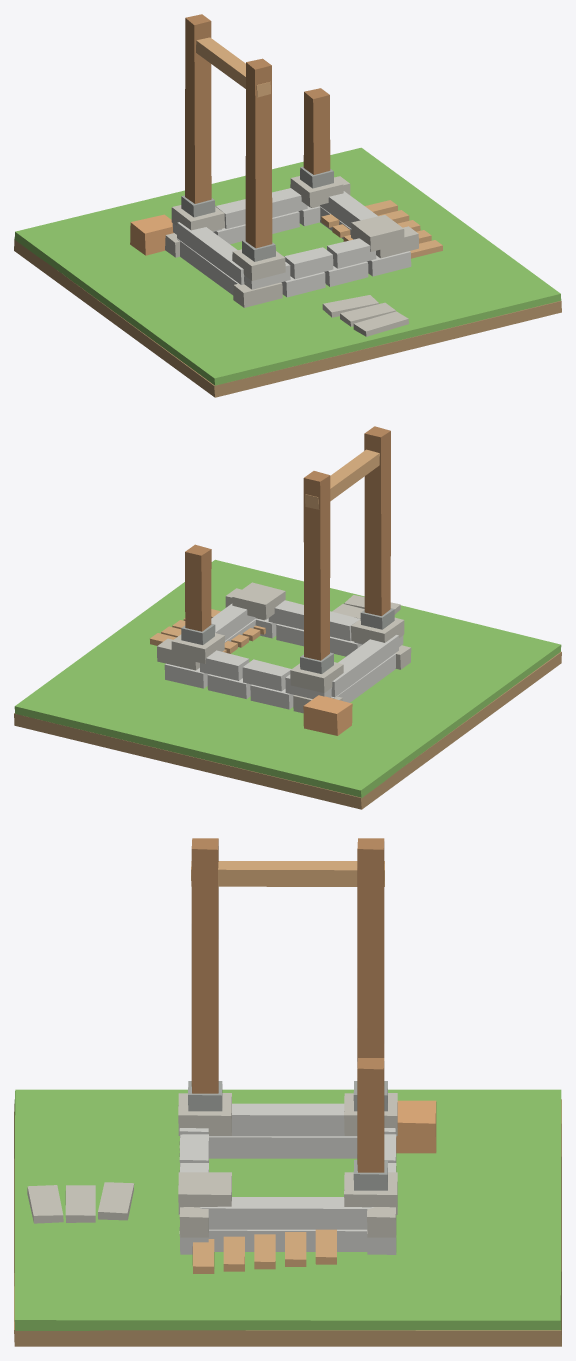
The model's file is tower_l03_construction_LOD2.glb.
3 views of the same model, one above another, from view 1: azimuth 30°, elevation 25°; view 2: azimuth 150°, elevation 25°; view 3: azimuth 270°, elevation 25° (orthographic). The views are drawn at different scales.
Visible parts, largest first — view 1: tower_l03_grass_tile_tower_l03_construction_LOD2_tmp, tower_l03_earth_tile_tower_l03_construction_LOD2_tmp, post_-0.61_-0.54_tower_l03_construction_LOD2_tmp, post_-0.61_0.54_tower_l03_construction_LOD2_tmp, post_0.61_0.54_tower_l03_construction_LOD2_tmp, stone_return_1_-0.72_tower_l03_construction_LOD2_tmp, temporary_crossbar_tower_l03_construction_LOD2_tmp, foot_0.61_-0.54_tower_l03_construction_LOD2_tmp, unmounted_instrument_case_tower_l03_construction_LOD2_tmp, stone_course_1_-1_1_tower_l03_construction_LOD2_tmp, stone_return_1_0.72_tower_l03_construction_LOD2_tmp, foot_-0.61_-0.54_tower_l03_construction_LOD2_tmp (+19 smaller); view 2: tower_l03_grass_tile_tower_l03_construction_LOD2_tmp, tower_l03_earth_tile_tower_l03_construction_LOD2_tmp, post_-0.61_0.54_tower_l03_construction_LOD2_tmp, post_-0.61_-0.54_tower_l03_construction_LOD2_tmp, post_0.61_0.54_tower_l03_construction_LOD2_tmp, stone_return_1_-0.72_tower_l03_construction_LOD2_tmp, unmounted_instrument_case_tower_l03_construction_LOD2_tmp, temporary_crossbar_tower_l03_construction_LOD2_tmp, foot_0.61_-0.54_tower_l03_construction_LOD2_tmp, stone_course_1_1_1_tower_l03_construction_LOD2_tmp, foot_-0.61_0.54_tower_l03_construction_LOD2_tmp, foot_0.61_0.54_tower_l03_construction_LOD2_tmp (+14 smaller); view 3: tower_l03_grass_tile_tower_l03_construction_LOD2_tmp, tower_l03_earth_tile_tower_l03_construction_LOD2_tmp, post_-0.61_-0.54_tower_l03_construction_LOD2_tmp, post_-0.61_0.54_tower_l03_construction_LOD2_tmp, stone_return_1_0.72_tower_l03_construction_LOD2_tmp, stone_return_1_-0.72_tower_l03_construction_LOD2_tmp, temporary_crossbar_tower_l03_construction_LOD2_tmp, stone_return_0_-0.72_tower_l03_construction_LOD2_tmp, post_0.61_0.54_tower_l03_construction_LOD2_tmp, unmounted_instrument_case_tower_l03_construction_LOD2_tmp, stone_return_0_0.72_tower_l03_construction_LOD2_tmp, foot_0.61_-0.54_tower_l03_construction_LOD2_tmp (+16 smaller).
Boxes of the visible parts, left/top/right/bottom form: tower_l03_grass_tile_tower_l03_construction_LOD2_tmp: left=14, top=147, right=561, bottom=385; tower_l03_earth_tile_tower_l03_construction_LOD2_tmp: left=14, top=239, right=561, bottom=397; post_-0.61_-0.54_tower_l03_construction_LOD2_tmp: left=245, top=58, right=272, bottom=248; post_-0.61_0.54_tower_l03_construction_LOD2_tmp: left=185, top=14, right=211, bottom=203; post_0.61_0.54_tower_l03_construction_LOD2_tmp: left=303, top=88, right=330, bottom=174; stone_return_1_-0.72_tower_l03_construction_LOD2_tmp: left=177, top=222, right=244, bottom=284; temporary_crossbar_tower_l03_construction_LOD2_tmp: left=196, top=37, right=270, bottom=97; foot_0.61_-0.54_tower_l03_construction_LOD2_tmp: left=351, top=215, right=404, bottom=251; unmounted_instrument_case_tower_l03_construction_LOD2_tmp: left=130, top=214, right=173, bottom=255; stone_course_1_-1_1_tower_l03_construction_LOD2_tmp: left=284, top=247, right=333, bottom=279; stone_return_1_0.72_tower_l03_construction_LOD2_tmp: left=320, top=191, right=377, bottom=228; foot_-0.61_-0.54_tower_l03_construction_LOD2_tmp: left=232, top=249, right=285, bottom=280; tower_l03_grass_tile_tower_l03_construction_LOD2_tmp: left=14, top=559, right=561, bottom=798; tower_l03_earth_tile_tower_l03_construction_LOD2_tmp: left=14, top=651, right=561, bottom=809; post_-0.61_0.54_tower_l03_construction_LOD2_tmp: left=303, top=471, right=330, bottom=660; post_-0.61_-0.54_tower_l03_construction_LOD2_tmp: left=364, top=426, right=390, bottom=615; post_0.61_0.54_tower_l03_construction_LOD2_tmp: left=185, top=544, right=211, bottom=631; stone_return_1_-0.72_tower_l03_construction_LOD2_tmp: left=331, top=635, right=398, bottom=697; unmounted_instrument_case_tower_l03_construction_LOD2_tmp: left=303, top=695, right=352, bottom=735; temporary_crossbar_tower_l03_construction_LOD2_tmp: left=305, top=449, right=379, bottom=509; foot_0.61_-0.54_tower_l03_construction_LOD2_tmp: left=232, top=582, right=285, bottom=619; stone_course_1_1_1_tower_l03_construction_LOD2_tmp: left=242, top=659, right=291, bottom=691; foot_-0.61_0.54_tower_l03_construction_LOD2_tmp: left=290, top=662, right=343, bottom=692; foot_0.61_0.54_tower_l03_construction_LOD2_tmp: left=171, top=633, right=224, bottom=663; tower_l03_grass_tile_tower_l03_construction_LOD2_tmp: left=14, top=1089, right=561, bottom=1330; tower_l03_earth_tile_tower_l03_construction_LOD2_tmp: left=14, top=1099, right=561, bottom=1346; post_-0.61_-0.54_tower_l03_construction_LOD2_tmp: left=191, top=838, right=218, bottom=1093; post_-0.61_0.54_tower_l03_construction_LOD2_tmp: left=357, top=838, right=384, bottom=1067; stone_return_1_0.72_tower_l03_construction_LOD2_tmp: left=200, top=1197, right=373, bottom=1229; stone_return_1_-0.72_tower_l03_construction_LOD2_tmp: left=209, top=1103, right=356, bottom=1136; temporary_crossbar_tower_l03_construction_LOD2_tmp: left=191, top=861, right=384, bottom=886; stone_return_0_-0.72_tower_l03_construction_LOD2_tmp: left=209, top=1136, right=357, bottom=1158; post_0.61_0.54_tower_l03_construction_LOD2_tmp: left=357, top=1058, right=384, bottom=1172; unmounted_instrument_case_tower_l03_construction_LOD2_tmp: left=396, top=1100, right=436, bottom=1153; stone_return_0_0.72_tower_l03_construction_LOD2_tmp: left=208, top=1229, right=367, bottom=1251; foot_0.61_-0.54_tower_l03_construction_LOD2_tmp: left=178, top=1172, right=231, bottom=1214.
Bounding box in the file's own units: 3.57 × 2.5 × 3.57.
